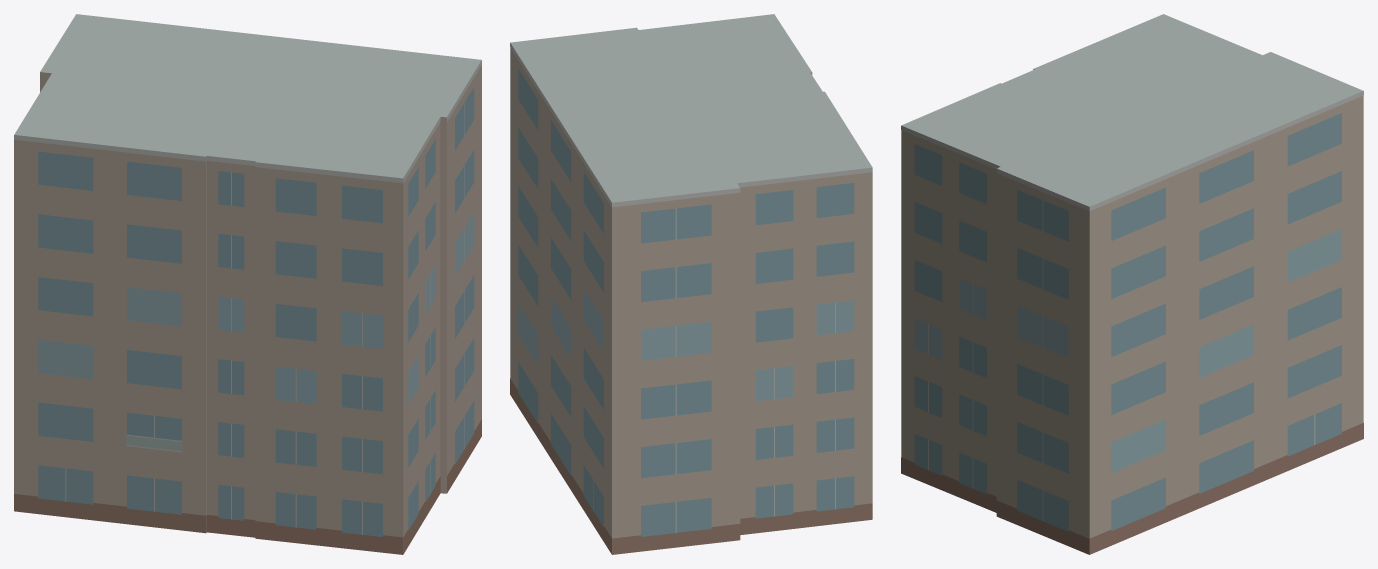
The model's file is survey-upis-33020695.glb.
3 renders of one model, left to right at view 1: azimuth 30°, elevation 25°; view 2: azimuth 150°, elevation 25°; view 3: azimuth 270°, elevation 25°, orthographic. The views are drawn at different scales.
Visible parts, largest first — view 1: survey-upis-33020695.tmp; view 2: survey-upis-33020695.tmp; view 3: survey-upis-33020695.tmp.
Part boxes in pixels (box(x1,y1,x2,y2)): survey-upis-33020695.tmp: box(14, 14, 481, 554); survey-upis-33020695.tmp: box(510, 14, 872, 554); survey-upis-33020695.tmp: box(901, 14, 1363, 554).
Bounding box in the file's own units: 22.35 × 18.8 × 22.65.
